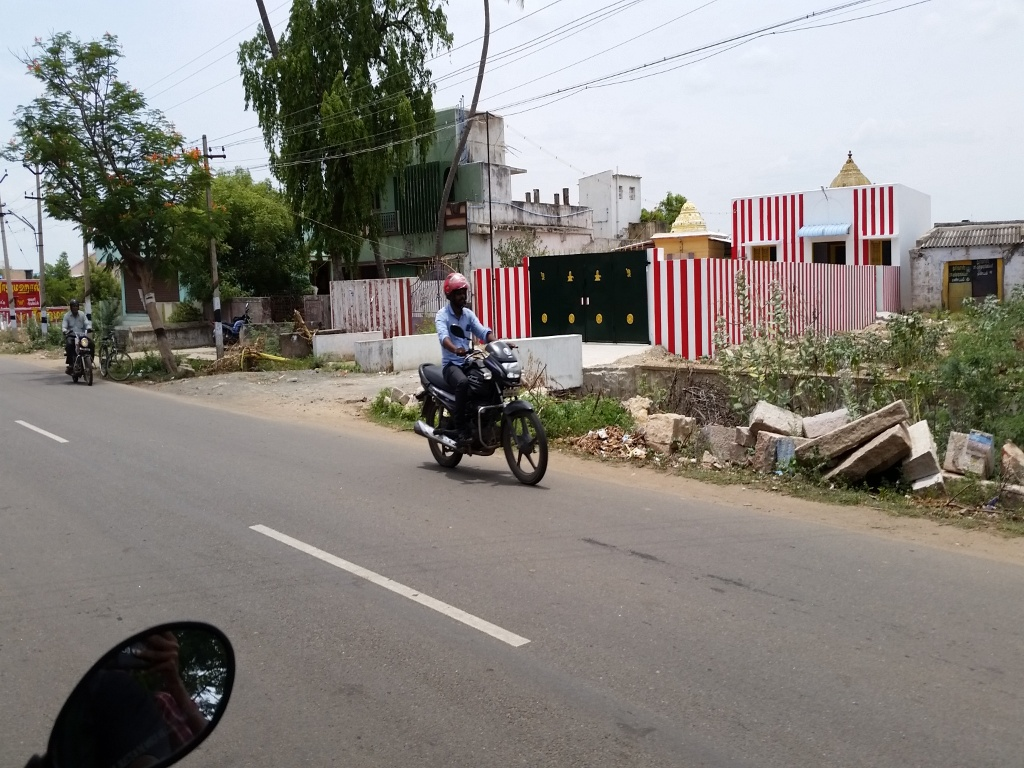biker: (397, 248, 573, 492), (51, 282, 116, 393)
helmet: (436, 264, 479, 320), (65, 293, 86, 318)
